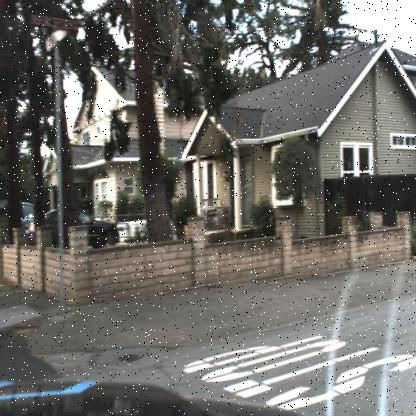car: (22, 210, 119, 249)
